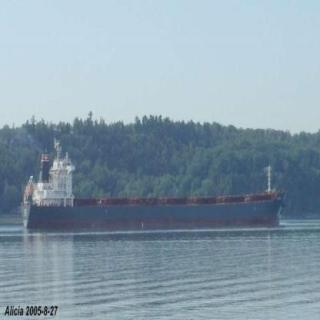Bulk Carrier: (10, 149, 294, 229)
